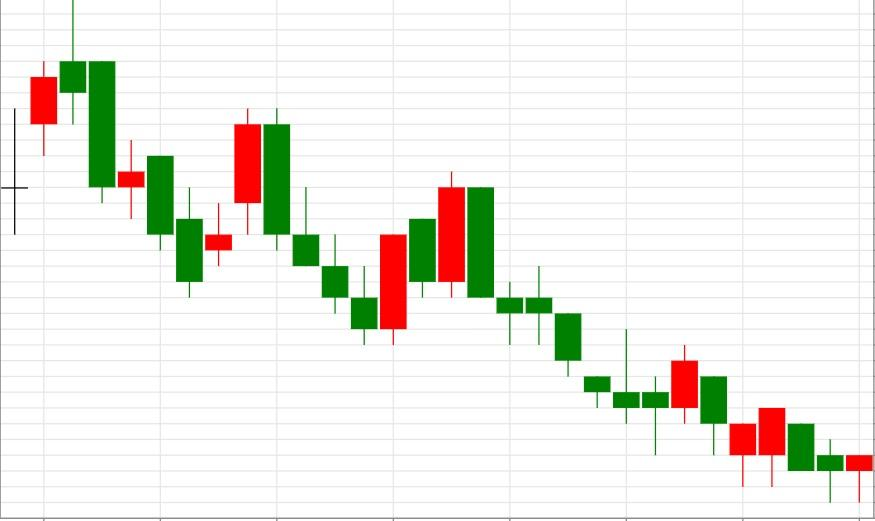bearish_engulfing_fall: (175, 108, 291, 298)
bullish_engulfing_rise: (233, 108, 408, 345)
